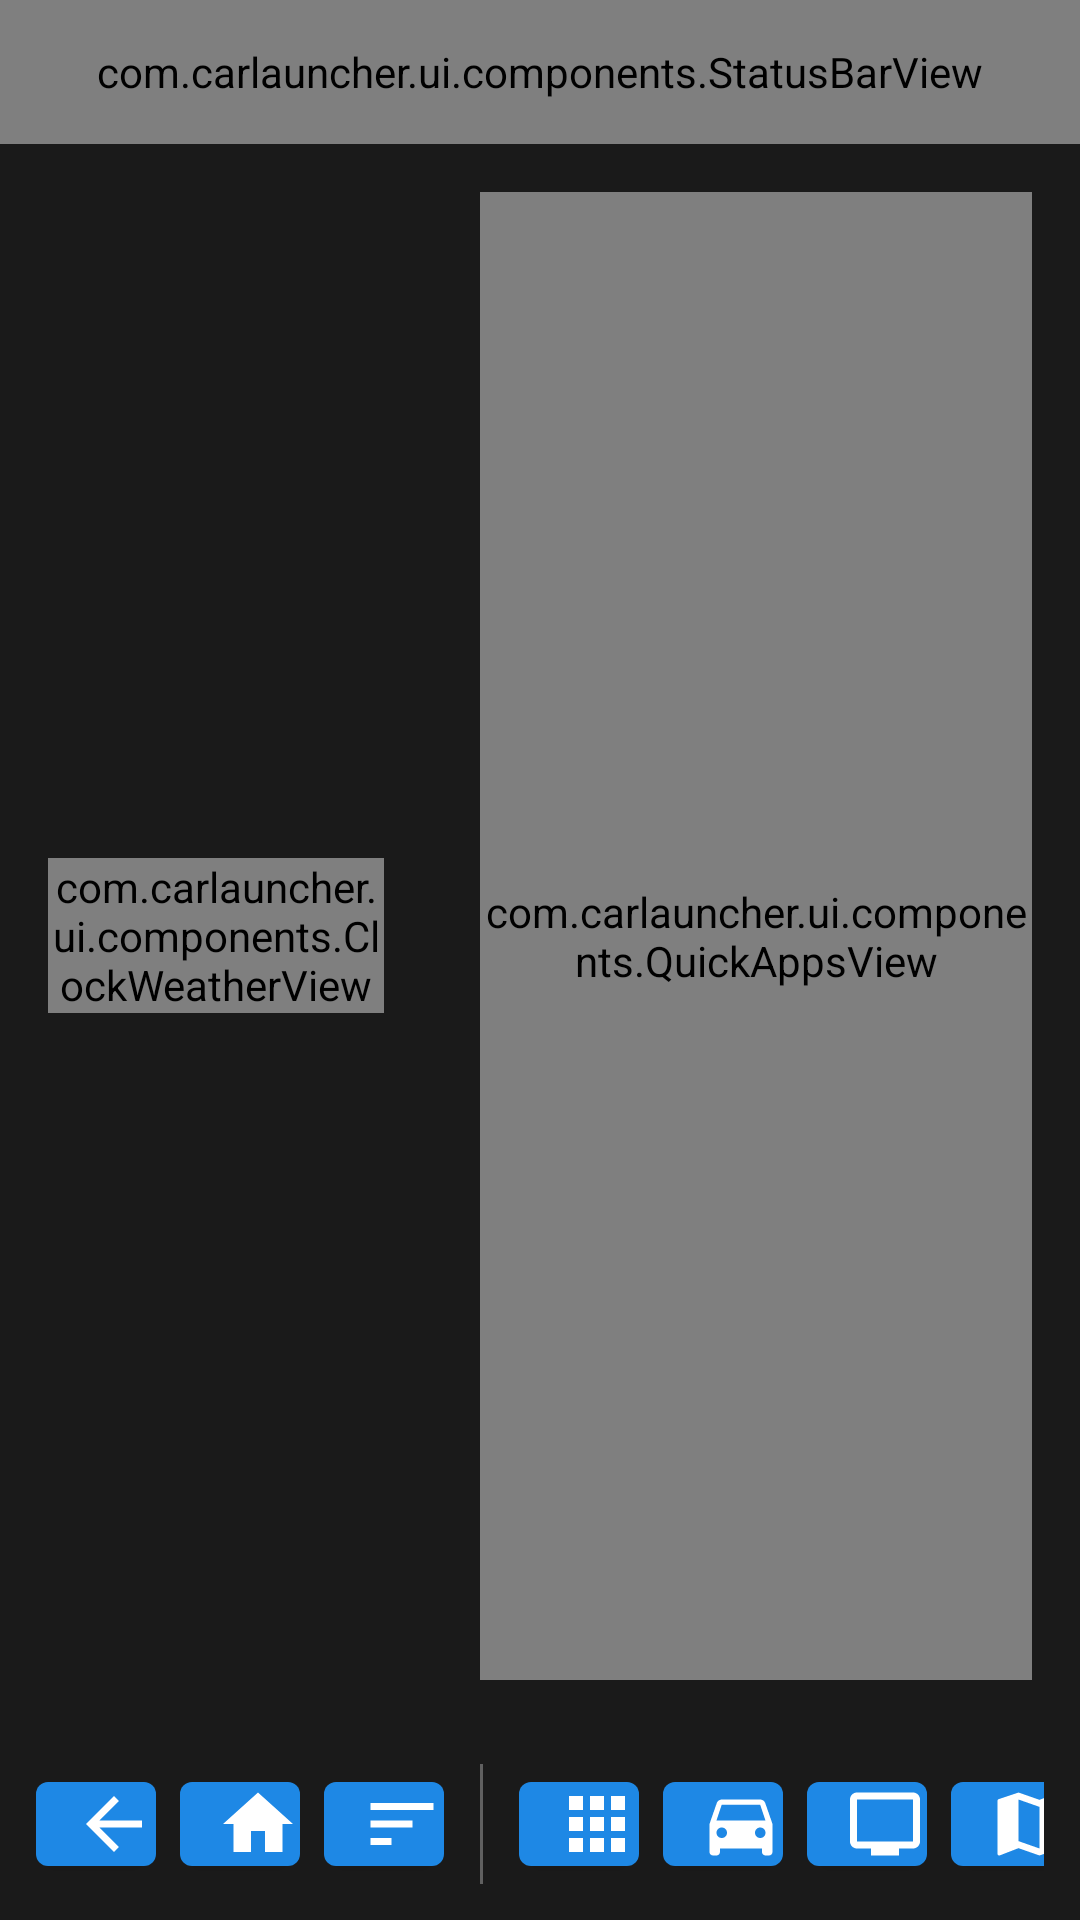

Point at icon controls on the screen. Image size 1080×1920, points as [x,y].
back: [96,1824]
car: [723,1824]
display: [867,1824]
home: [240,1824]
map: [997,1824]
